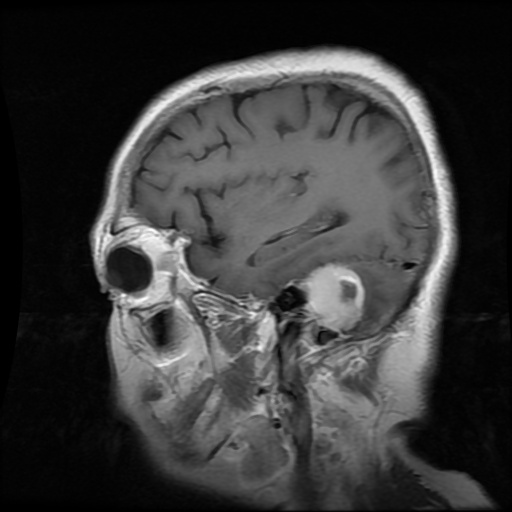meningioma: (301, 264, 365, 330)
